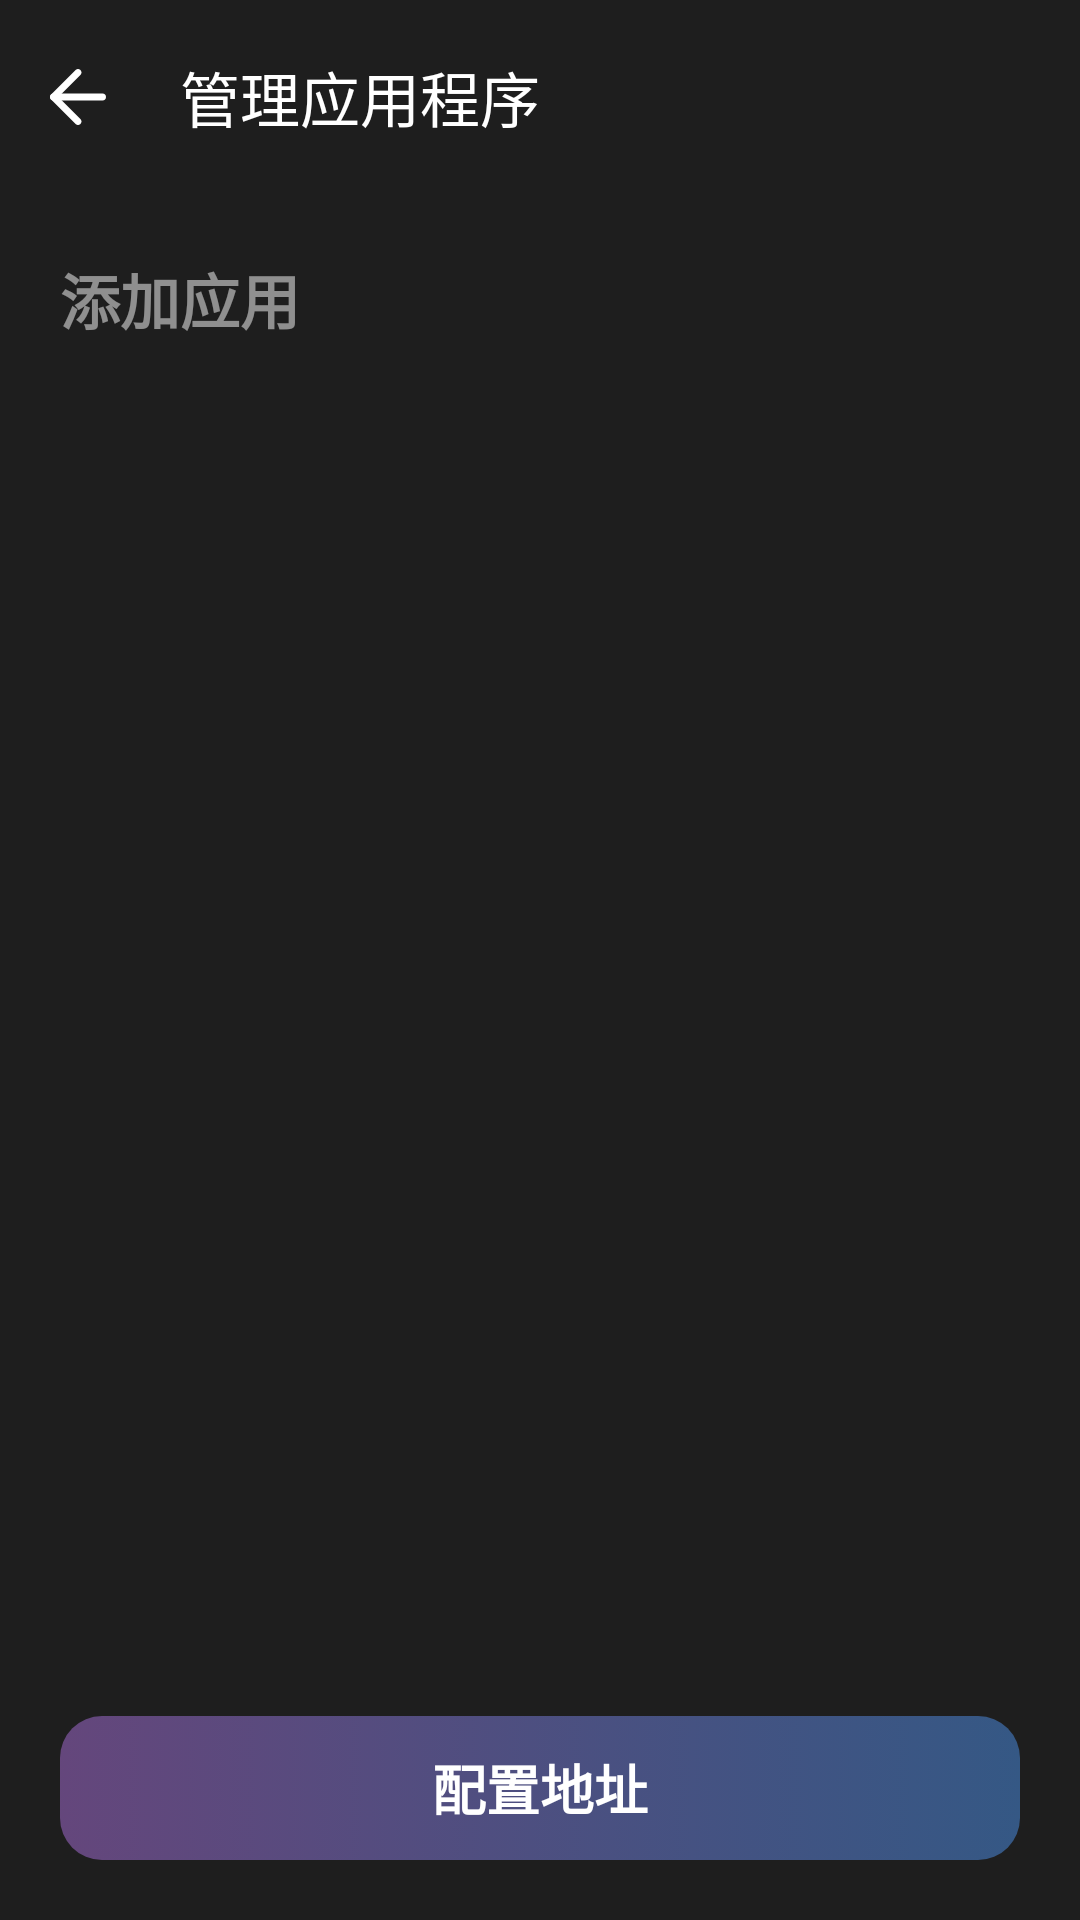

Named icons in this screenshot (1080 × 1920) and their bounding boxes, (x1, y1, x2, y2):
返回: (50, 69, 106, 125)
